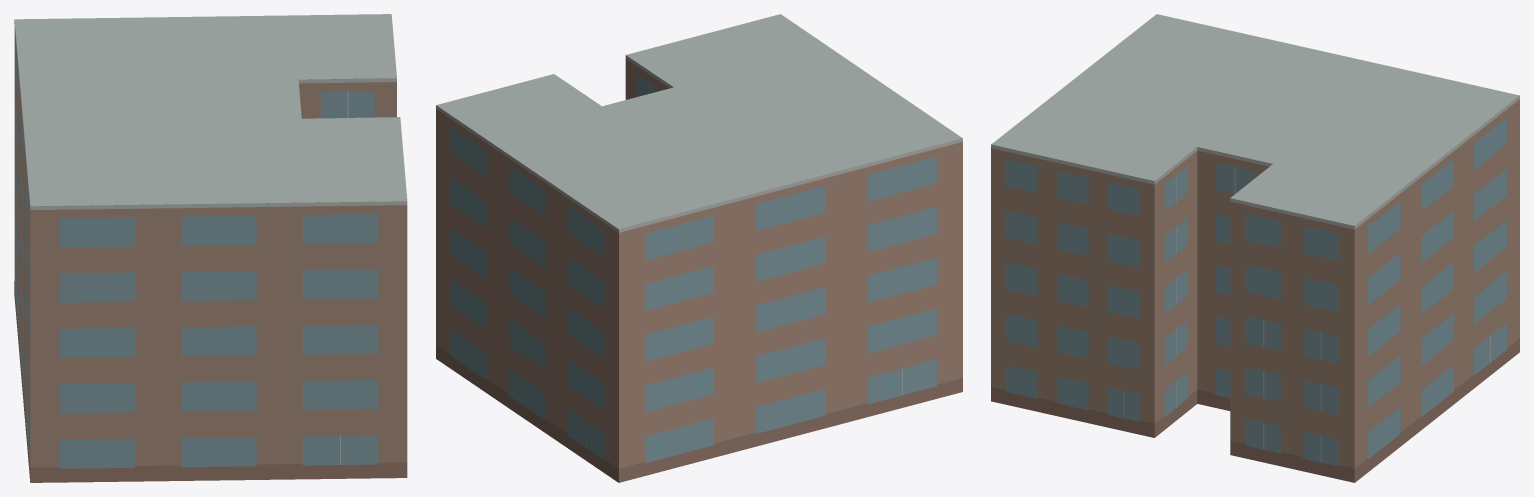
Rendered from survey-upis-32607586.glb.
3 renders of one model, left to right at view 1: azimuth 30°, elevation 25°; view 2: azimuth 150°, elevation 25°; view 3: azimuth 270°, elevation 25°, orthographic. The views are drawn at different scales.
Parts seen in each view (by area): view 1: survey-upis-32607586.tmp; view 2: survey-upis-32607586.tmp; view 3: survey-upis-32607586.tmp.
Part boxes in pixels (x1,y1,x2,y2): survey-upis-32607586.tmp: (14,14,407,482); survey-upis-32607586.tmp: (436,14,962,482); survey-upis-32607586.tmp: (991,14,1519,482).
Bounding box in the file's own units: 30.63 × 17.3 × 32.28.
